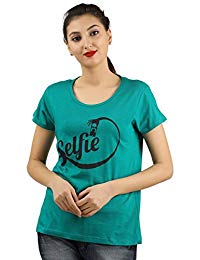tshirt: (30, 70, 167, 253)
